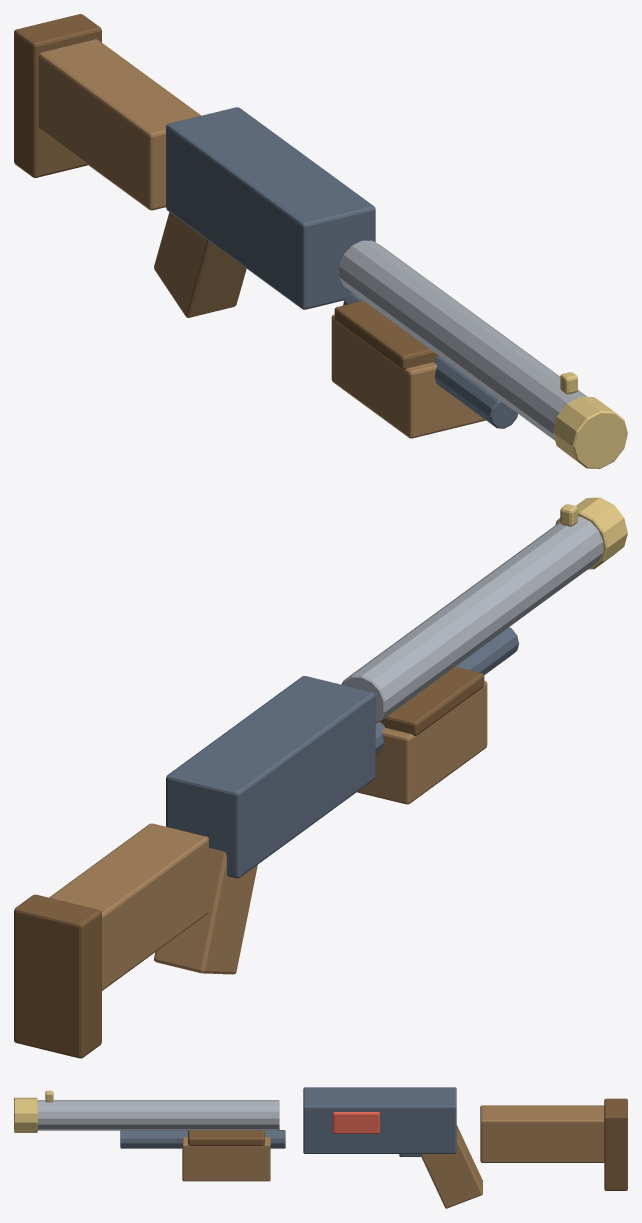
File: shotgun.glb
The picture shows the model from 3 angles, top to bottom: view 1: azimuth 30°, elevation 25°; view 2: azimuth 150°, elevation 25°; view 3: azimuth 270°, elevation 25°; orthographic projection. The views are drawn at different scales.
Parts seen in each view (by area): view 1: Receiver, Stock, Barrel, Pump, Butt, Grip, Muzzle_Ring, Pump_Top, Mag_Tube; view 2: Receiver, Barrel, Stock, Butt, Pump, Grip, Pump_Top, Muzzle_Ring, Mag_Tube; view 3: Receiver, Barrel, Stock, Pump, Grip, Butt, Mag_Tube, Pump_Top, Ejection, Muzzle_Ring.
Part boxes in pixels (bbox=[...]): Receiver: bbox=[166, 107, 375, 309]; Stock: bbox=[38, 39, 201, 210]; Barrel: bbox=[339, 240, 586, 440]; Pump: bbox=[331, 314, 485, 438]; Butt: bbox=[14, 14, 101, 177]; Grip: bbox=[154, 212, 246, 317]; Muzzle_Ring: bbox=[553, 396, 627, 468]; Pump_Top: bbox=[334, 300, 438, 369]; Mag_Tube: bbox=[343, 292, 517, 428]; Receiver: bbox=[166, 676, 375, 878]; Barrel: bbox=[341, 516, 603, 723]; Stock: bbox=[49, 823, 208, 990]; Butt: bbox=[14, 894, 101, 1058]; Pump: bbox=[357, 680, 487, 804]; Grip: bbox=[154, 848, 257, 974]; Pump_Top: bbox=[379, 666, 484, 735]; Muzzle_Ring: bbox=[555, 497, 627, 569]; Mag_Tube: bbox=[375, 627, 519, 754]; Receiver: bbox=[303, 1087, 456, 1153]; Barrel: bbox=[37, 1100, 279, 1130]; Stock: bbox=[480, 1105, 604, 1162]; Pump: bbox=[182, 1137, 270, 1181]; Grip: bbox=[420, 1125, 482, 1208]; Butt: bbox=[604, 1098, 627, 1190]; Mag_Tube: bbox=[120, 1130, 285, 1148]; Pump_Top: bbox=[188, 1130, 264, 1145]; Ejection: bbox=[332, 1112, 379, 1133]; Muzzle_Ring: bbox=[14, 1097, 37, 1132].
Bounding box in the file's own units: 0.09 × 0.2067 × 1.04.
